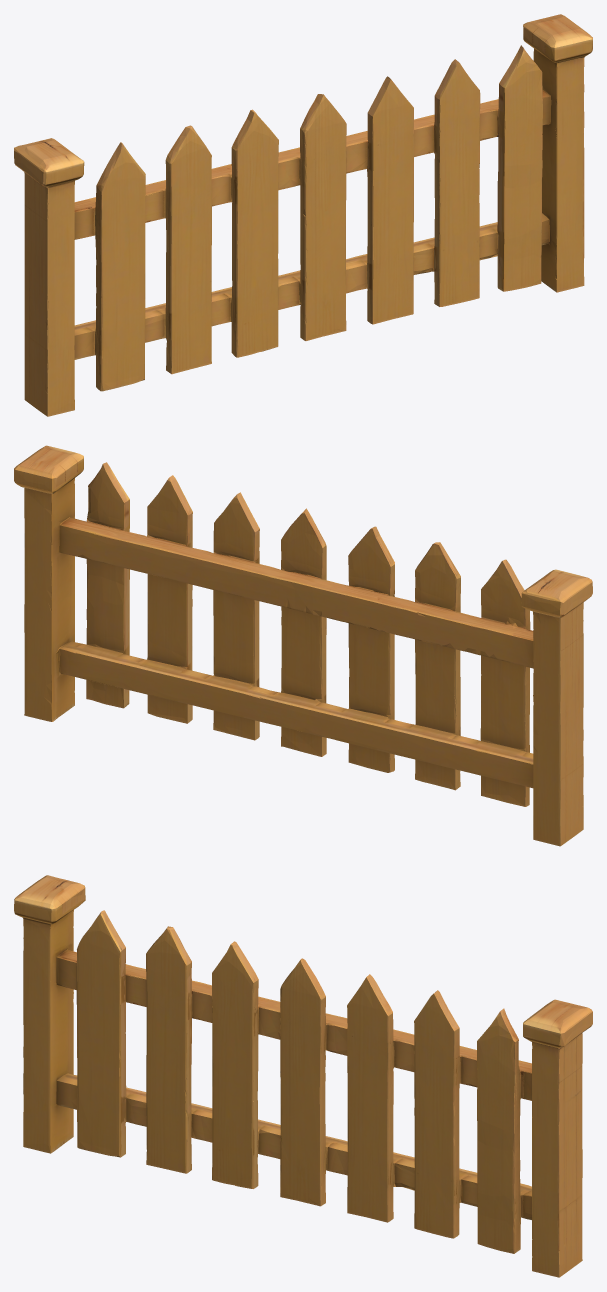
Rendered from WoodFence1.fbx.
3 renders of one model, top to bottom at view 1: azimuth 30°, elevation 25°; view 2: azimuth 150°, elevation 25°; view 3: azimuth 330°, elevation 25°, orthographic.
Parts seen in each view (by area): view 1: temp; view 2: temp; view 3: temp.
Part boxes in pixels (<box>): temp: <box>14,14,592,416</box>; temp: <box>14,445,592,846</box>; temp: <box>14,875,592,1277</box>.
Size of the model in its own units: 200 by 88.61 by 20.26.
1 material, 1 textured.
